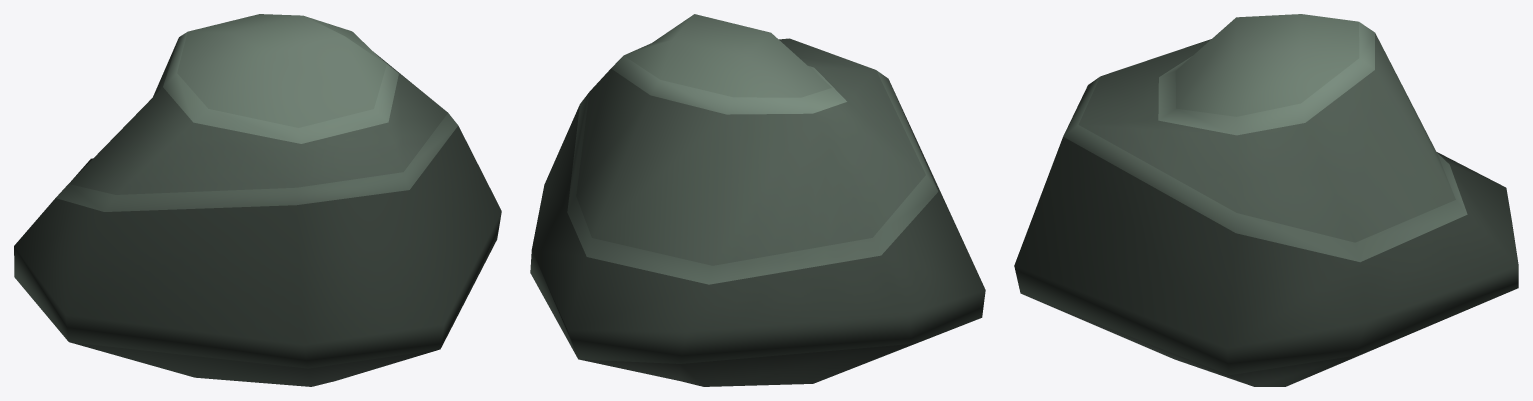
Rendered from stone_8.fbx.
3 renders of one model, left to right at view 1: azimuth 30°, elevation 25°; view 2: azimuth 150°, elevation 25°; view 3: azimuth 270°, elevation 25°, orthographic. The views are drawn at different scales.
Parts seen in each view (by area): view 1: stone_8; view 2: stone_8; view 3: stone_8.
Part boxes in pixels (x1,y1,x2,y2): stone_8: [14, 14, 501, 386]; stone_8: [530, 14, 985, 386]; stone_8: [1014, 14, 1518, 386].
Size of the model in its own units: 33.88 by 23.28 by 32.86.
1 material, 1 textured.
